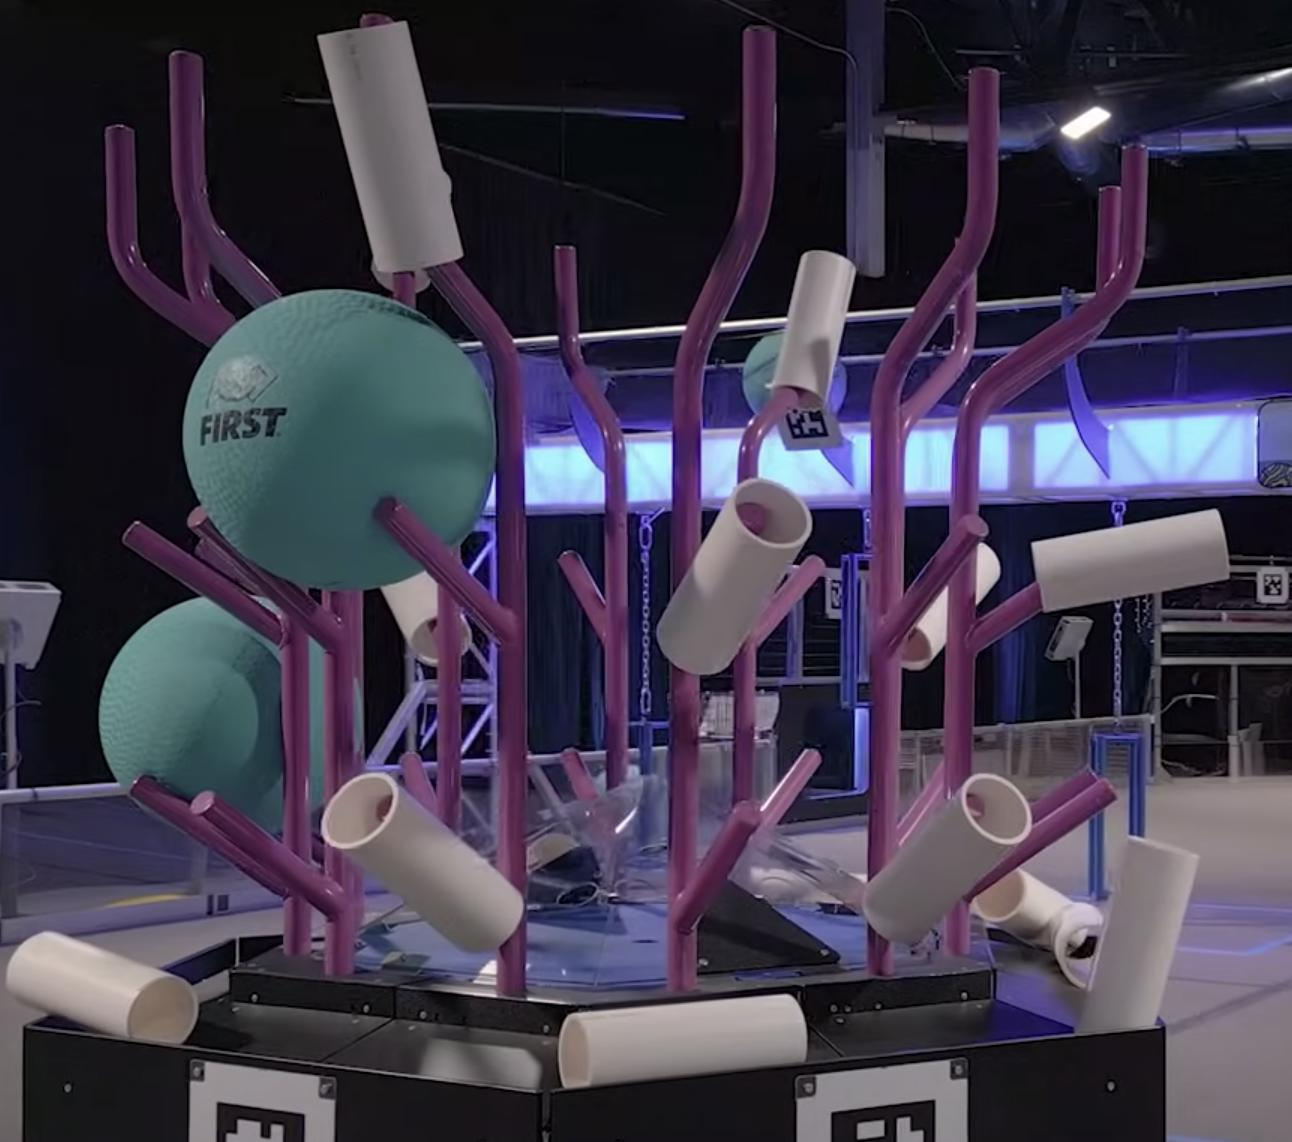algae: (183, 289, 498, 591), (98, 593, 363, 838), (743, 332, 848, 424)
coral: (320, 773, 526, 952), (316, 20, 463, 272), (657, 477, 814, 675), (862, 773, 1032, 945), (556, 993, 806, 1098), (1080, 836, 1201, 1035), (6, 930, 200, 1047), (1031, 508, 1228, 612), (773, 251, 855, 412), (900, 542, 1001, 669), (381, 567, 469, 667), (975, 866, 1073, 950), (1051, 902, 1105, 989)
